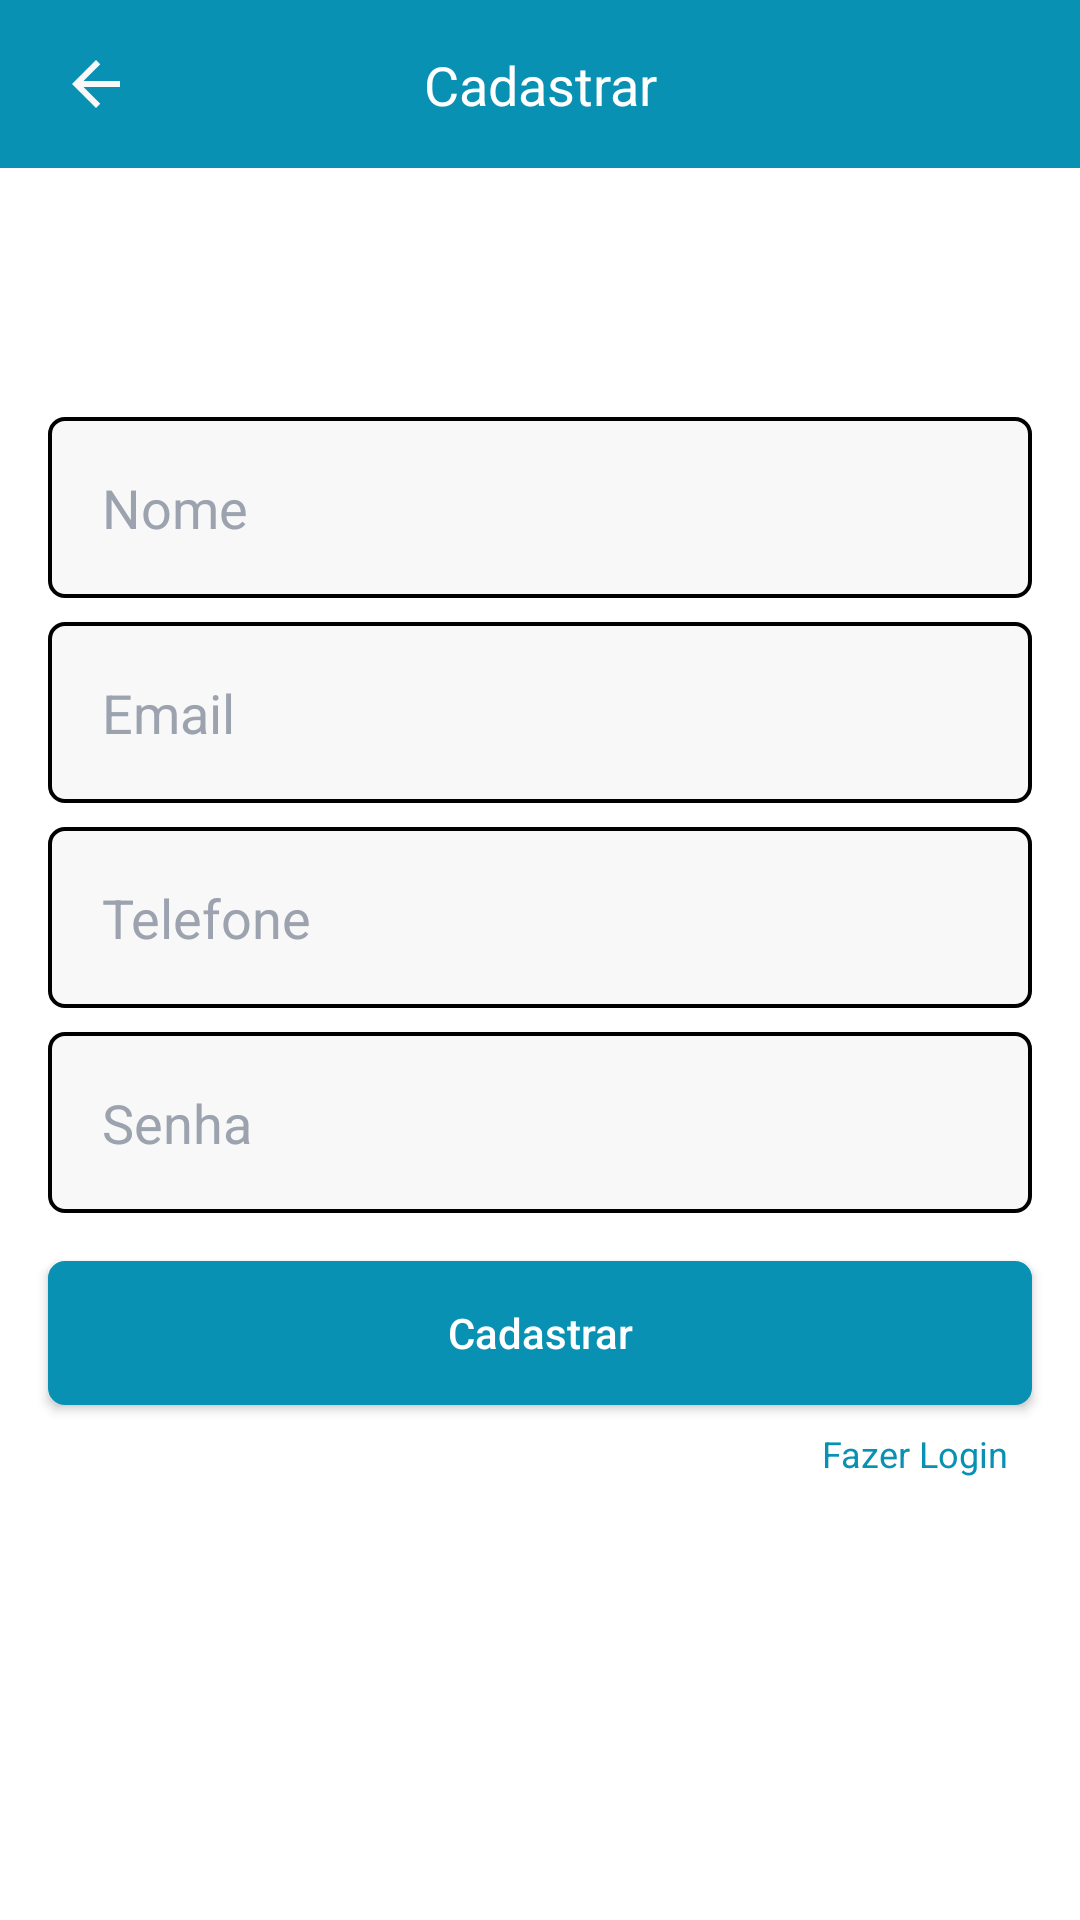

Icon bounding boxes for this 1080 x 1920 phone screenshot, format (x1,y1,x2,y2):
goback: (72,60,120,108)
